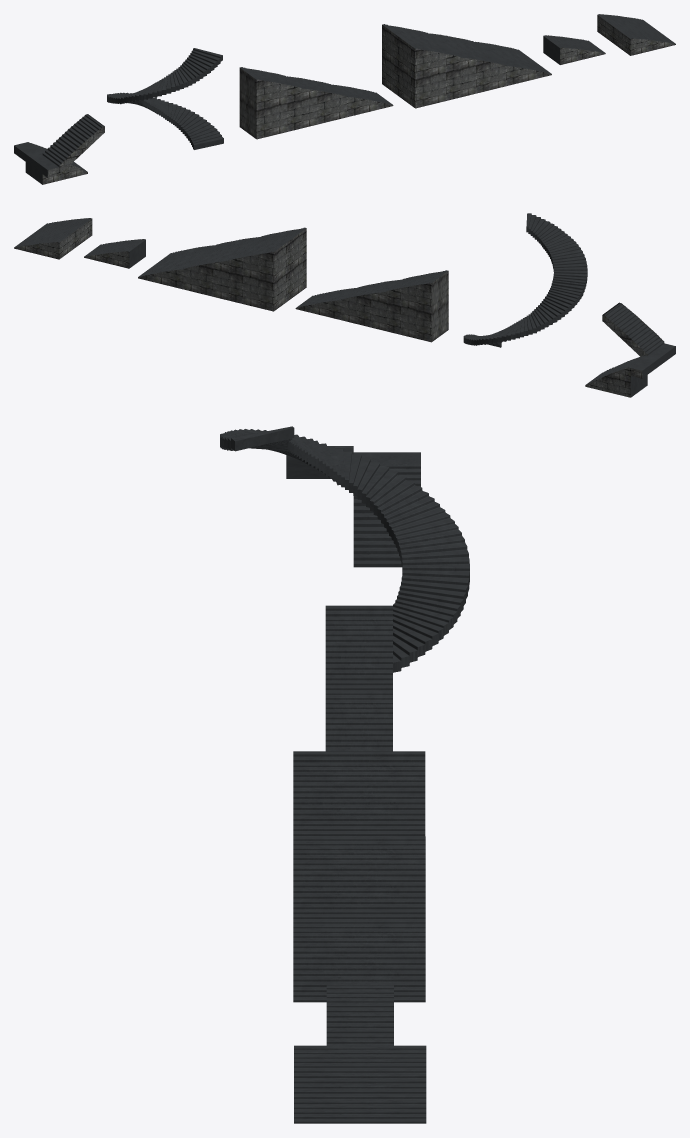
Rendered from Stairs.fbx.
The picture shows the model from 3 angles, top to bottom: view 1: azimuth 30°, elevation 25°; view 2: azimuth 150°, elevation 25°; view 3: azimuth 270°, elevation 25°; orthographic projection. The views are drawn at different scales.
Parts seen in each view (by area): view 1: Stairs_C, Stairs_D, Stairs_E, Stairs_F, Stairs_A, Stairs_B; view 2: Stairs_C, Stairs_D, Stairs_E, Stairs_F, Stairs_A, Stairs_B; view 3: Stairs_C, Stairs_E, Stairs_A, Stairs_D, Stairs_F, Stairs_B.
Part boxes in pixels (x1,y1,x2,y2): Stairs_C: (382,24,551,108); Stairs_D: (239,67,393,139); Stairs_E: (107,48,223,149); Stairs_F: (14,114,104,184); Stairs_A: (597,14,675,55); Stairs_B: (543,35,605,64); Stairs_C: (138,227,306,311); Stairs_D: (295,270,448,342); Stairs_E: (463,213,587,347); Stairs_F: (585,302,675,397); Stairs_A: (14,218,92,259); Stairs_B: (84,239,145,268); Stairs_C: (293,751,425,1002); Stairs_E: (220,426,469,672); Stairs_A: (294,1045,426,1123); Stairs_D: (325,605,392,751); Stairs_F: (286,446,420,567); Stairs_B: (326,985,393,1045).
Size of the model in its own units: 64.11 by 11.14 by 11.07.
